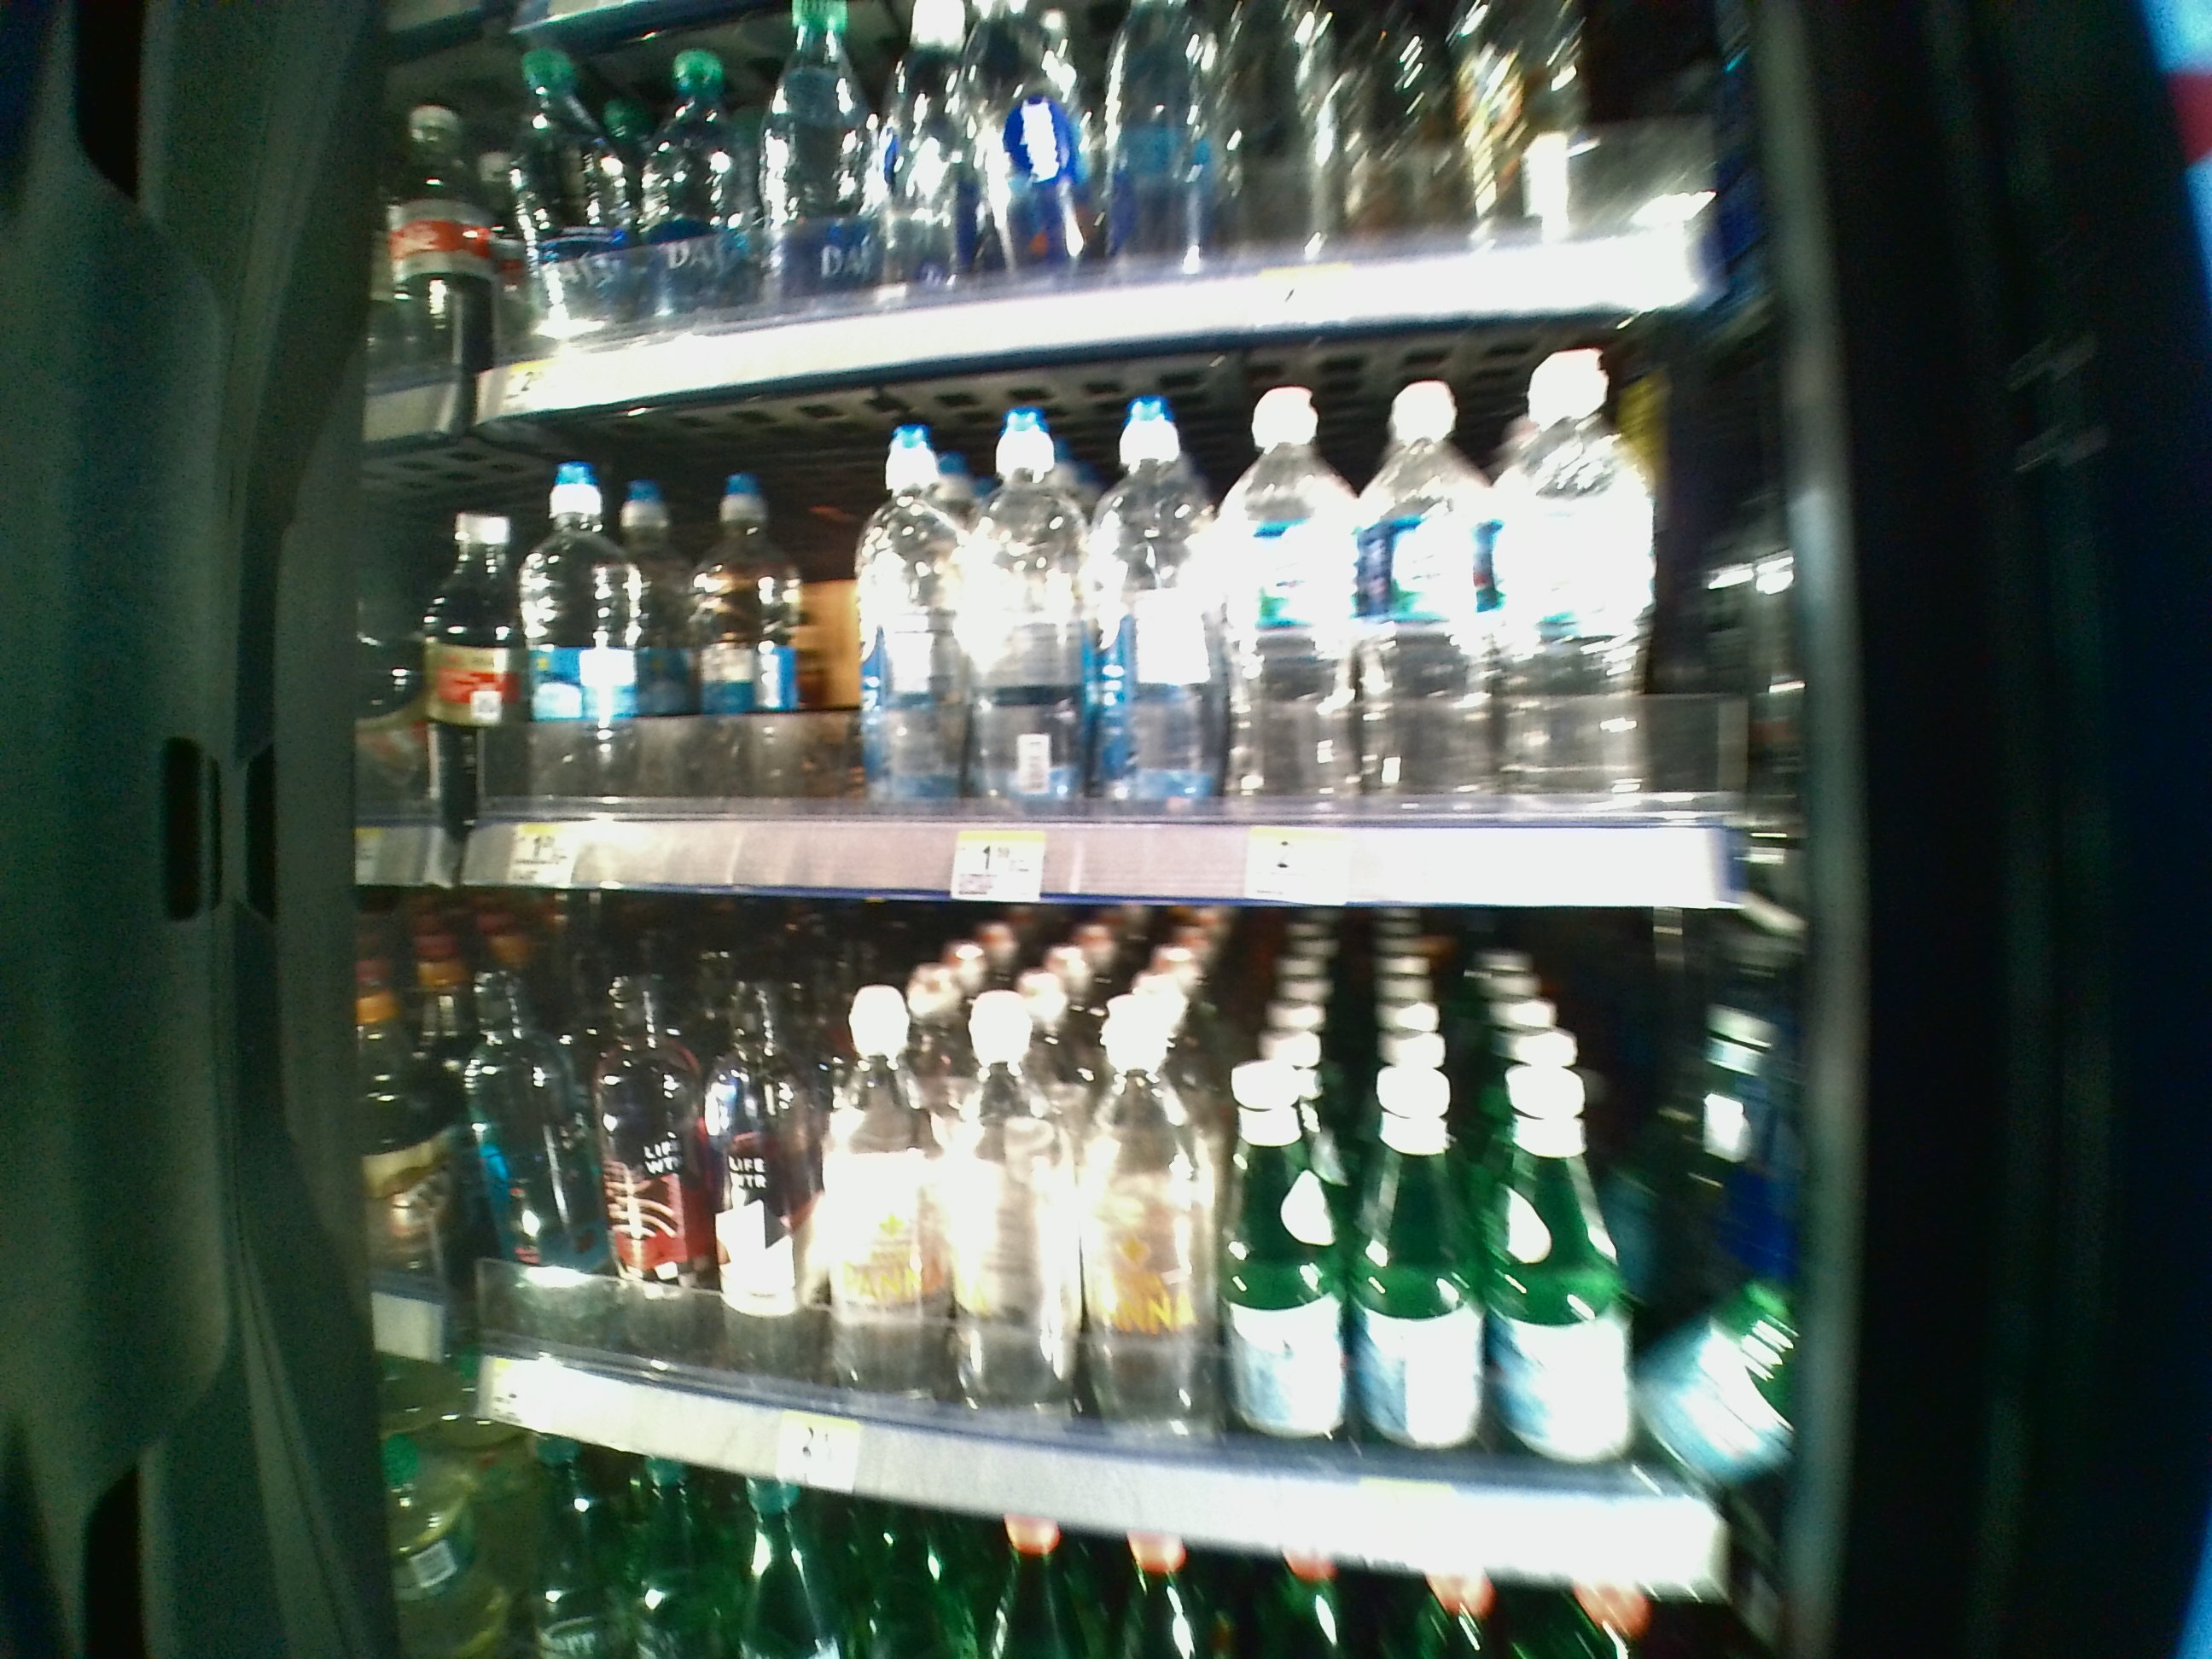shelf: (479, 904, 1759, 1574), (495, 328, 1756, 913)
